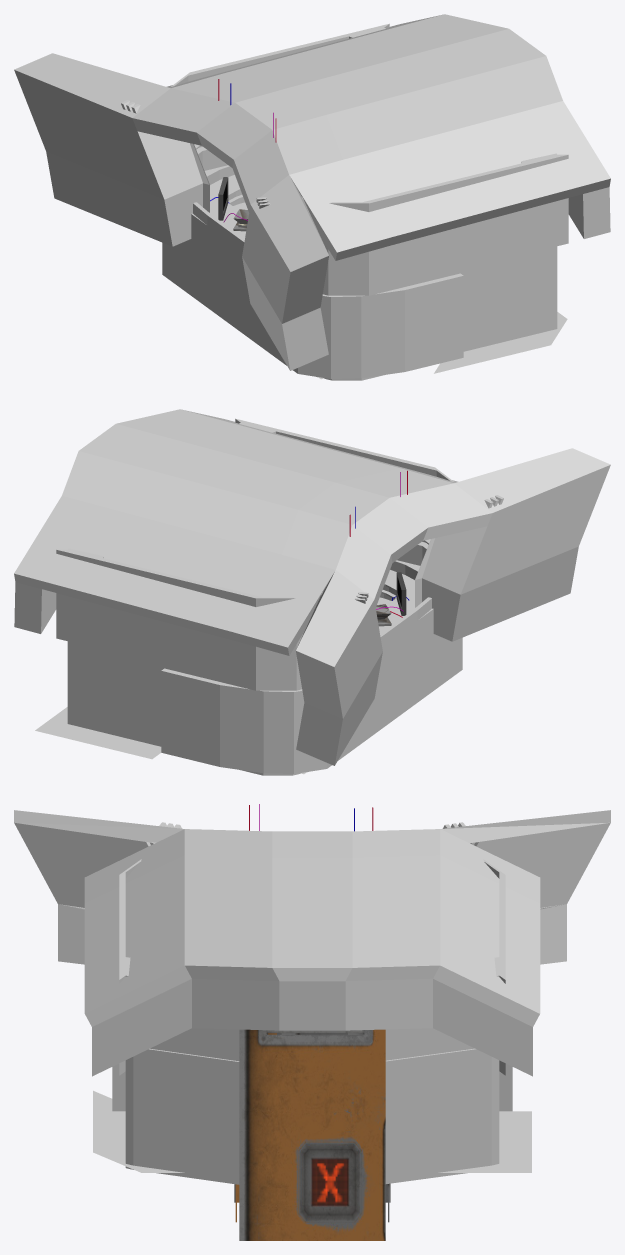
Rendered from Armored Ship Variation.fbx.
3 views of the same model, one above another, from view 1: azimuth 30°, elevation 25°; view 2: azimuth 150°, elevation 25°; view 3: azimuth 270°, elevation 25° (orthographic). The views are drawn at different scales.
Parts seen in each view (by area): view 1: Cube; view 2: Cube; view 3: Cube, Cube.026.
Part boxes in pixels (left/top/right/bottom): Cube: left=14, top=14, right=610, bottom=380; Cube: left=14, top=409, right=610, bottom=775; Cube: left=14, top=810, right=610, bottom=1184; Cube.026: left=234, top=1029, right=390, bottom=1240.
Bounding box in the file's own units: 966 × 678 × 1223.
23 materials, 2 textured.
